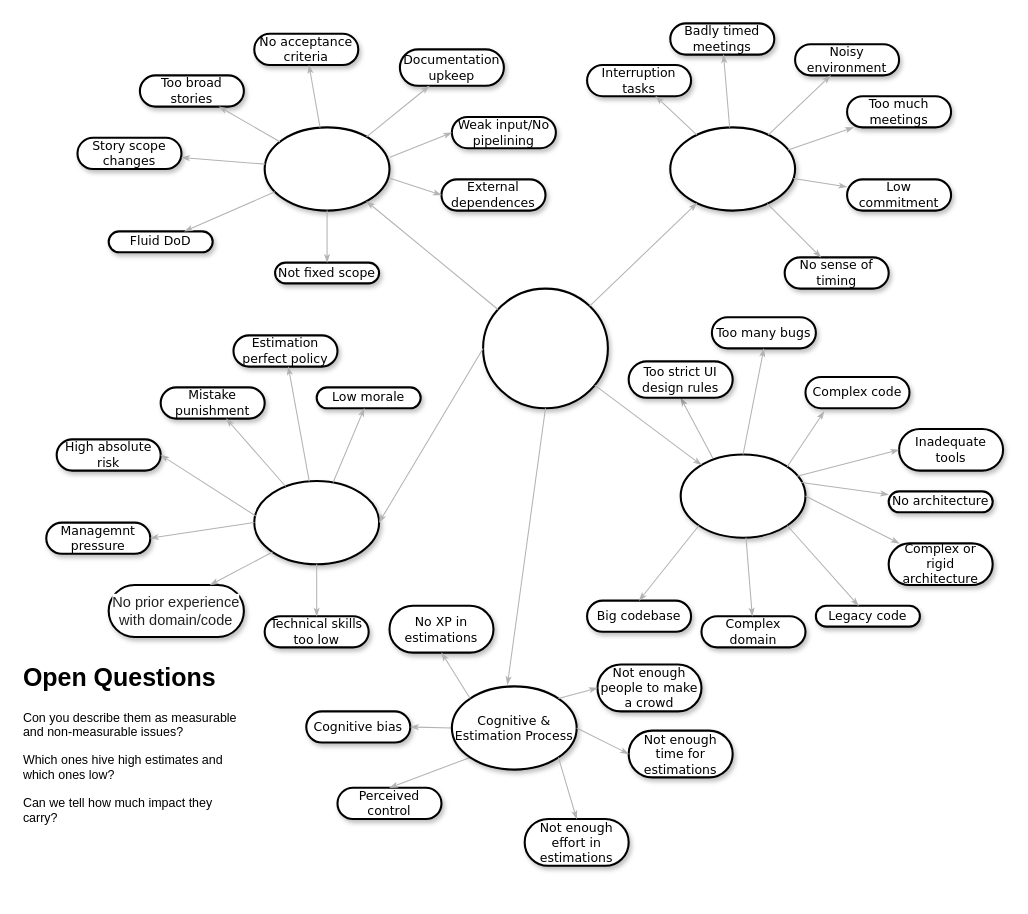
The diagram is 1028 pixels wide and 914 high, and some of its shapes have lost their labels. Here are the shapes that lost their labels. From the top down, the centre of each, then its label:
point (327, 170): Scope
point (733, 170): Focus
point (546, 349): Inaccurate & Enexpected Estimates Issue
point (743, 497): Technical
point (317, 523): Insecurity
